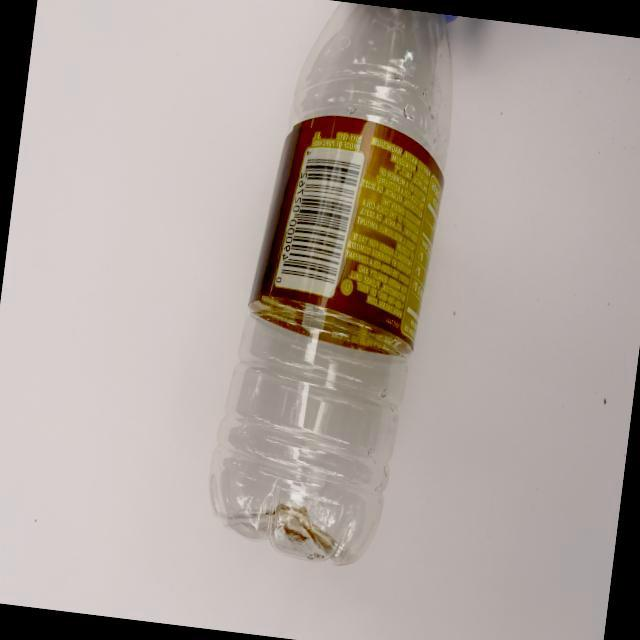plastic: (155, 0, 519, 589)
